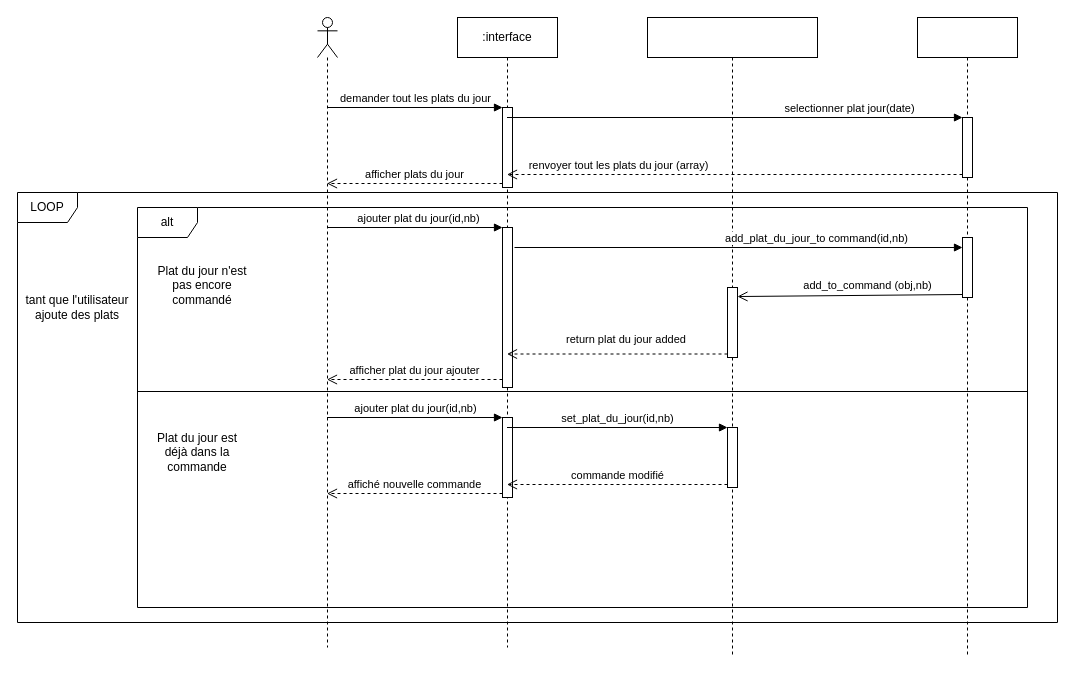
The diagram is 1075 pixels wide and 675 high, and some of its shapes have lost their labels. The box of each missing label's shape, as (x1, y1, x2, y2) in pixels:
:plat_du_jour: (916, 16, 1018, 658)
nouvelle commande: Commande: (646, 16, 818, 658)
